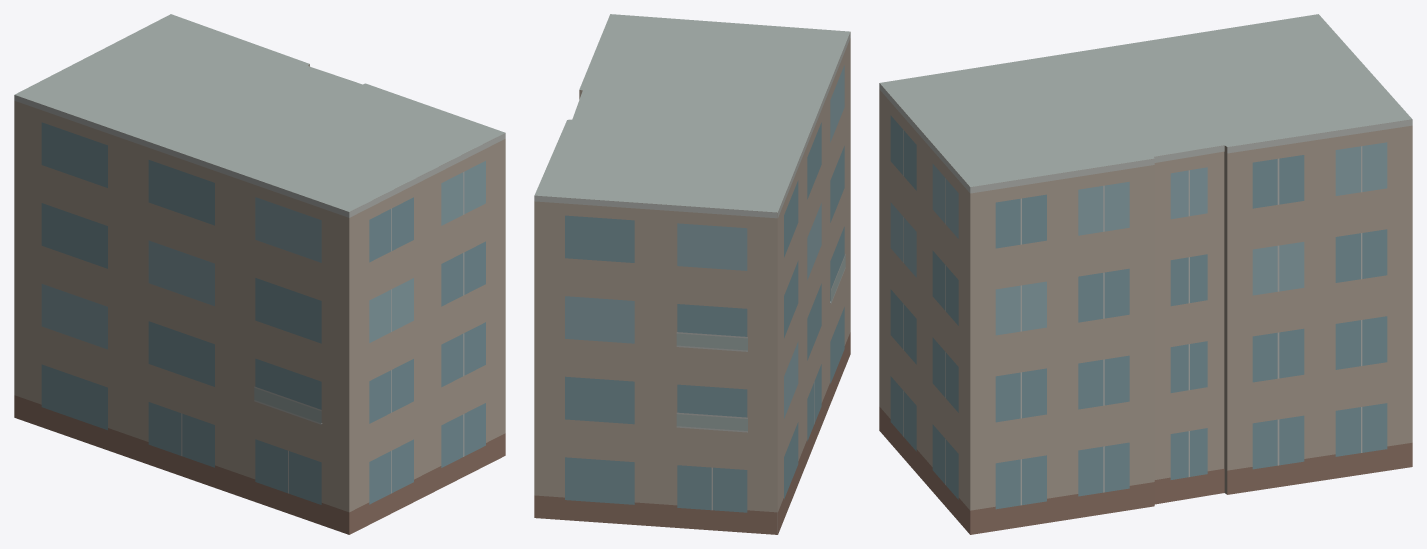
The model's file is survey-upis-33019123.glb.
3 views of the same model, side by side, from view 1: azimuth 30°, elevation 25°; view 2: azimuth 150°, elevation 25°; view 3: azimuth 270°, elevation 25° (orthographic). The views are drawn at different scales.
Parts seen in each view (by area): view 1: survey-upis-33019123.tmp; view 2: survey-upis-33019123.tmp; view 3: survey-upis-33019123.tmp.
Part boxes in pixels (x1,y1,x2,y2): survey-upis-33019123.tmp: (14,14,505,534); survey-upis-33019123.tmp: (534,14,850,534); survey-upis-33019123.tmp: (879,14,1412,534).
Bounding box in the file's own units: 14.32 × 13.4 × 18.63.
